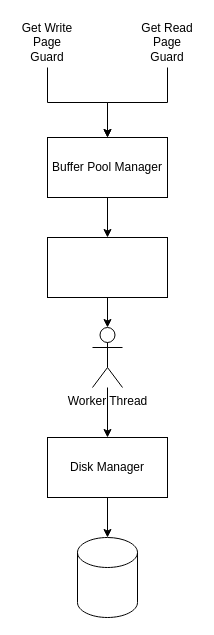
The diagram is 214 pixels wide and 635 high, and some of its shapes have lost their labels. The shapes that lost their labels are listed below. From the top down, each one's centre as x and y in pixels, then its label:
At [107,267]: "Disk Scheduler (I/O Request Queue)".
At [107,577]: "Database File".
